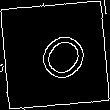O_SW: (22, 21, 88, 89)
